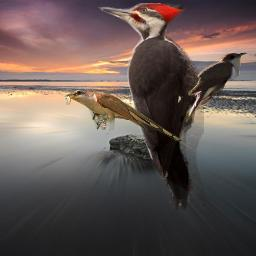Cuckoo: (63, 89, 182, 142), (186, 51, 248, 124)
Woodpecker: (98, 3, 207, 210)
